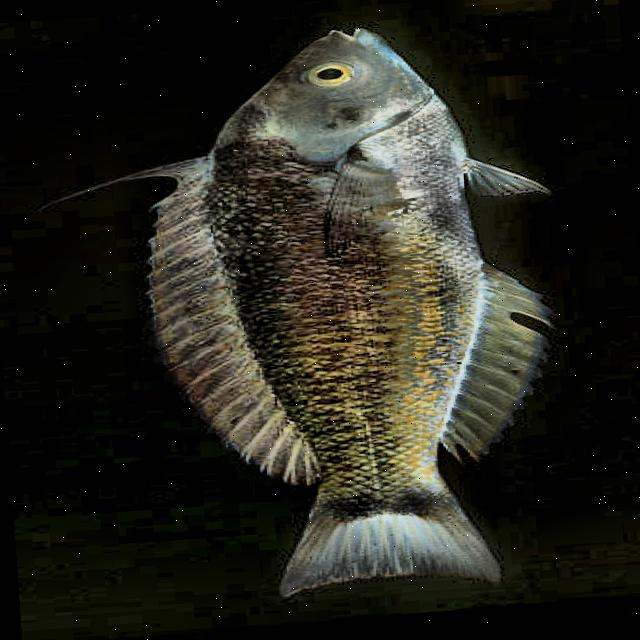fish: (24, 12, 580, 614)
